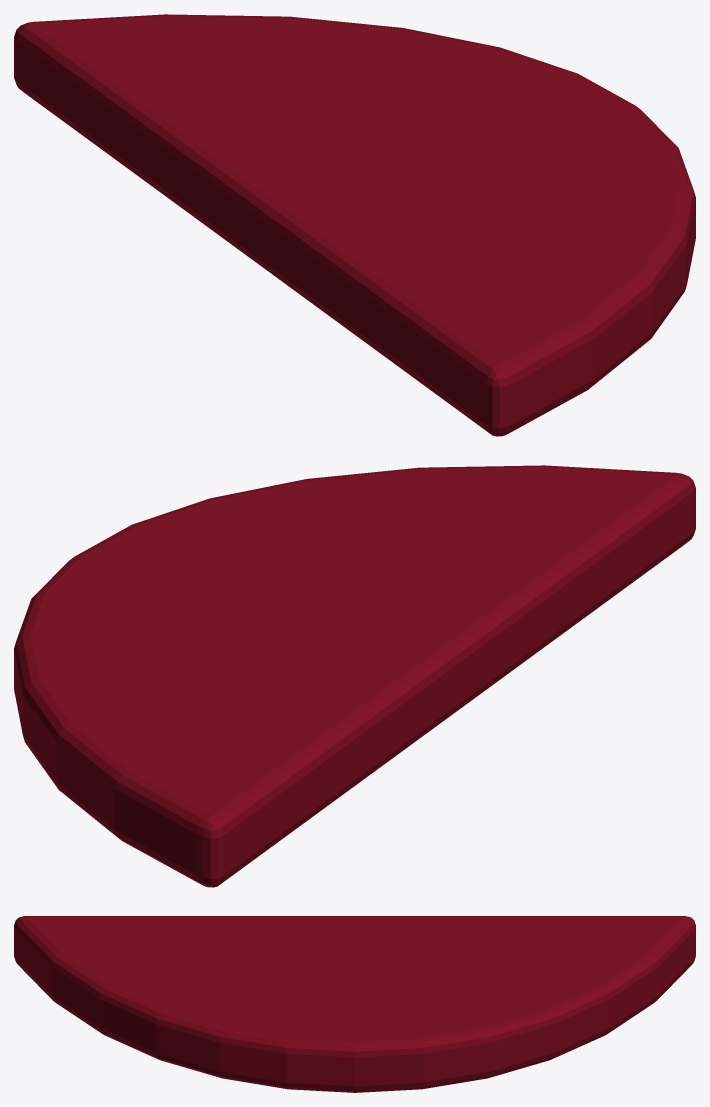
Rendered from SinkBlood.fbx.
3 renders of one model, top to bottom at view 1: azimuth 30°, elevation 25°; view 2: azimuth 150°, elevation 25°; view 3: azimuth 270°, elevation 25°, orthographic. The views are drawn at different scales.
Visible parts, largest first — view 1: SinkBlood; view 2: SinkBlood; view 3: SinkBlood.
Part boxes in pixels (x1,y1,x2,y2): SinkBlood: (14,14,695,436); SinkBlood: (14,465,695,887); SinkBlood: (14,916,695,1092).
Bounding box in the file's own units: 42.91 × 7.36 × 91.66.
